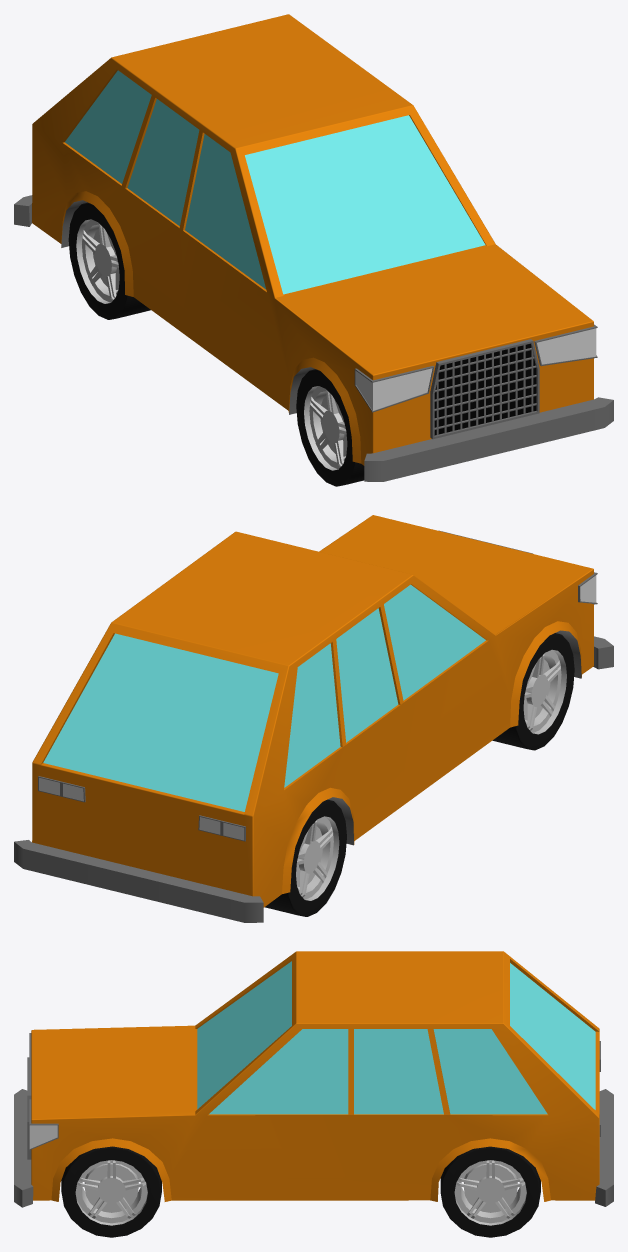
Rendered from ART-MOD-A-CAR-STATIONWAGON-ORANGE-001.fbx.
3 views of the same model, one above another, from view 1: azimuth 30°, elevation 25°; view 2: azimuth 150°, elevation 25°; view 3: azimuth 270°, elevation 25° (orthographic). The views are drawn at different scales.
Parts seen in each view (by area): view 1: StationWagon_GEO; view 2: StationWagon_GEO; view 3: StationWagon_GEO.
Boxes of the visible parts, left/top/right/bottom form: StationWagon_GEO: left=14, top=14, right=613, bottom=486; StationWagon_GEO: left=14, top=515, right=613, bottom=922; StationWagon_GEO: left=14, top=951, right=613, bottom=1237.
Bounding box in the file's own units: 227 × 216 × 568.
